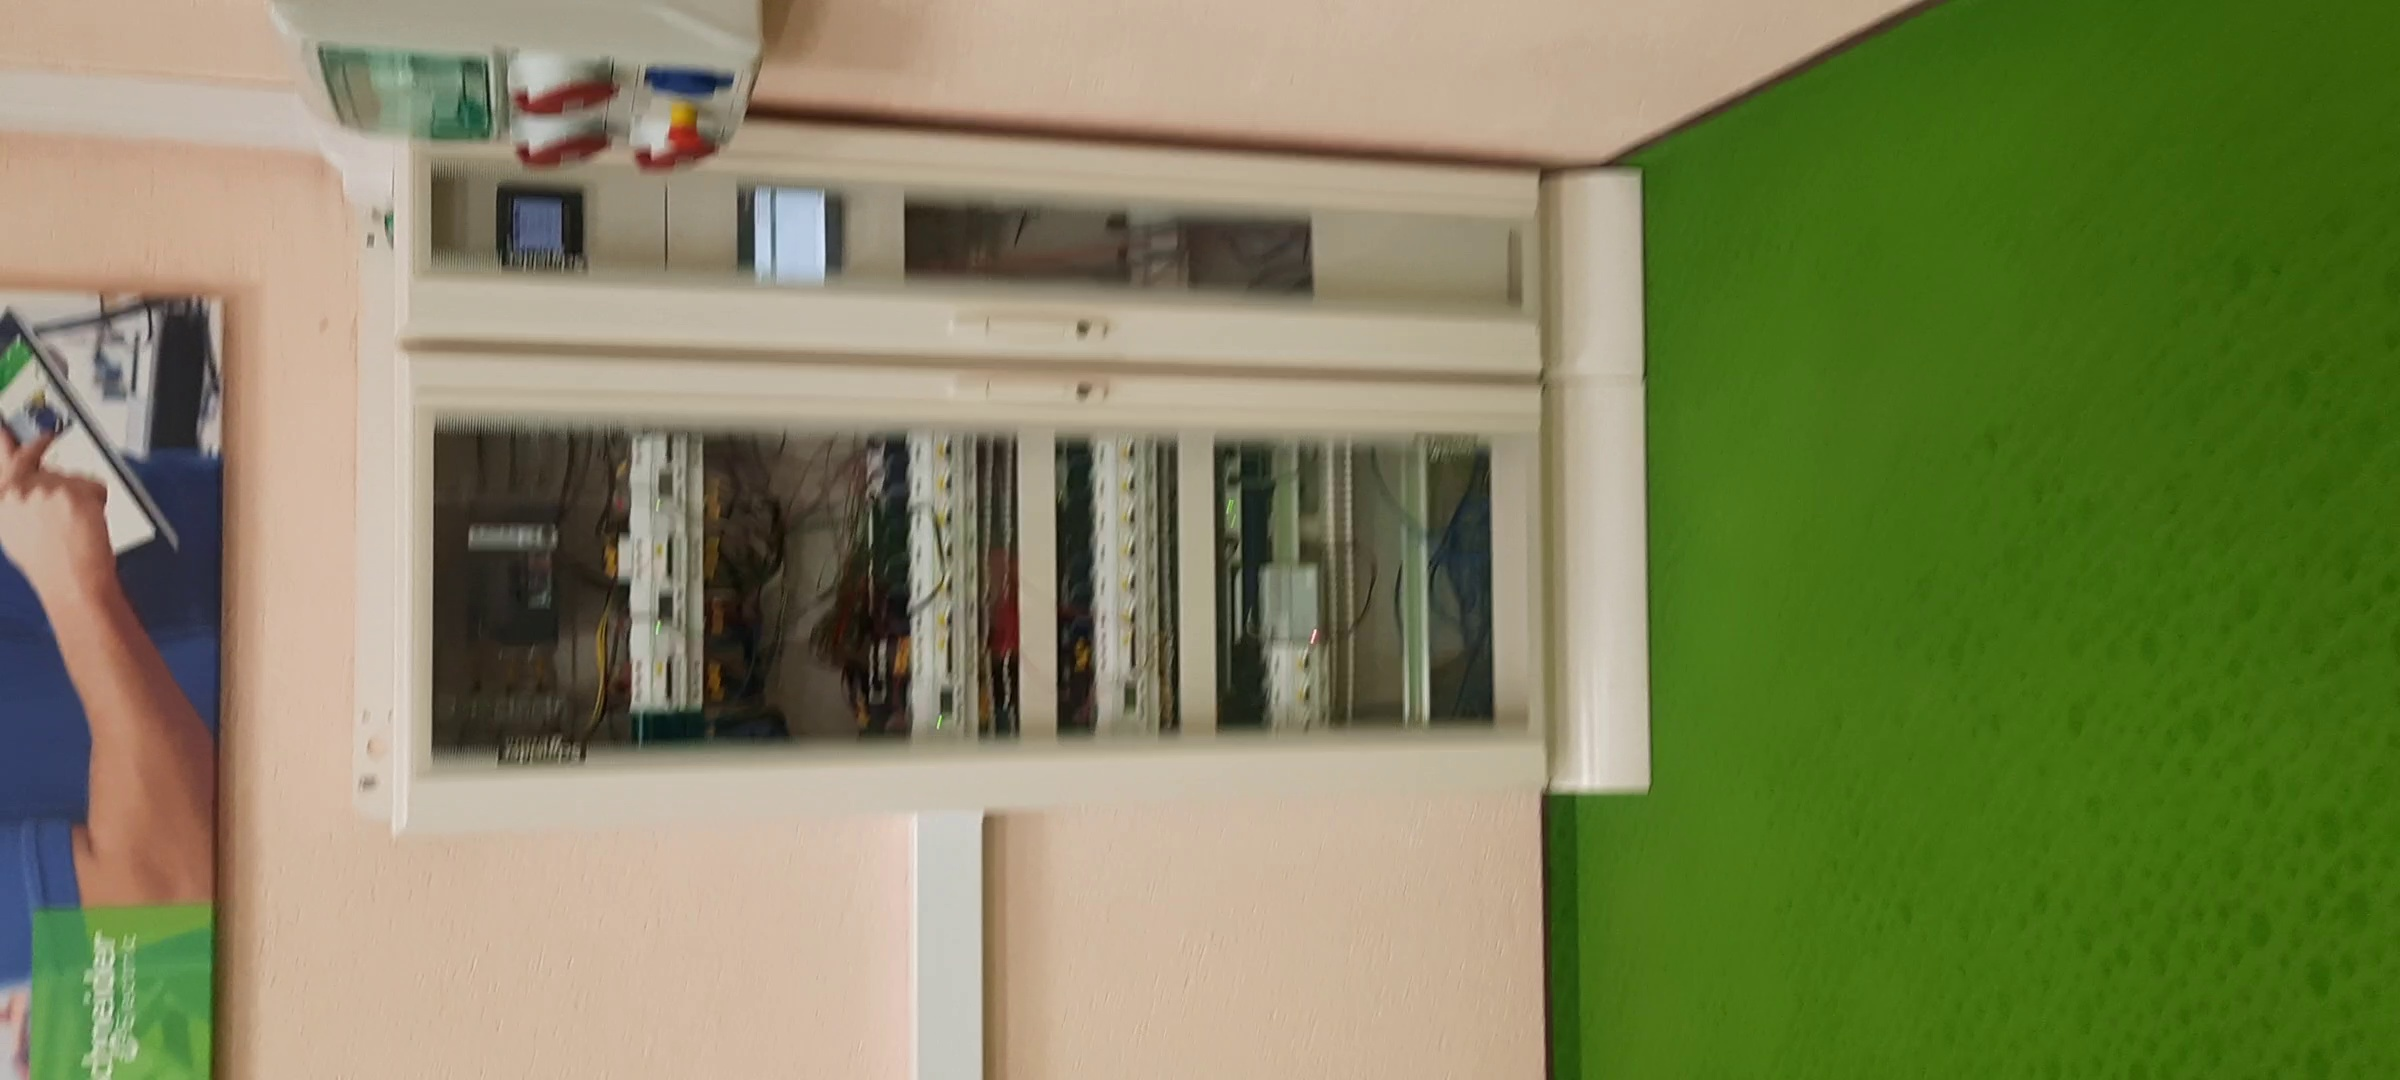stand1: (386, 138, 1648, 829)
